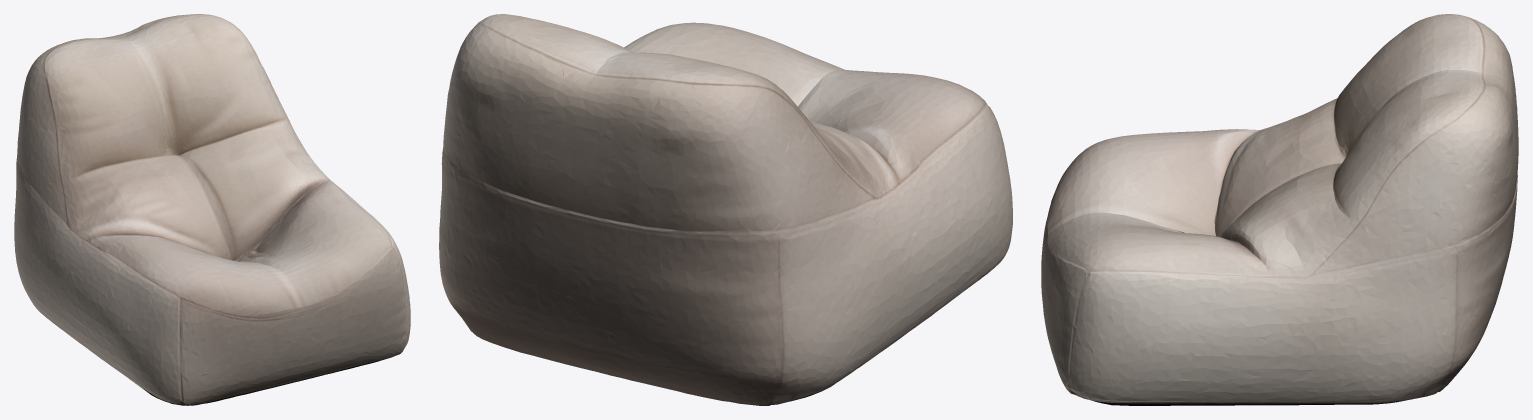
3 renders of one model, left to right at view 1: azimuth 30°, elevation 25°; view 2: azimuth 150°, elevation 25°; view 3: azimuth 270°, elevation 25°, orthographic. The views are drawn at different scales.
Visible parts, largest first — view 1: world; view 2: world; view 3: world.
Boxes of the visible parts, box(x1,y1,x2,y2) form: world: box(14, 14, 410, 405); world: box(439, 14, 1012, 405); world: box(1041, 14, 1518, 405).
Size of the model in its own units: 0.7951 by 0.6394 by 0.9978.
Materials: 1 (1 with a texture image).
